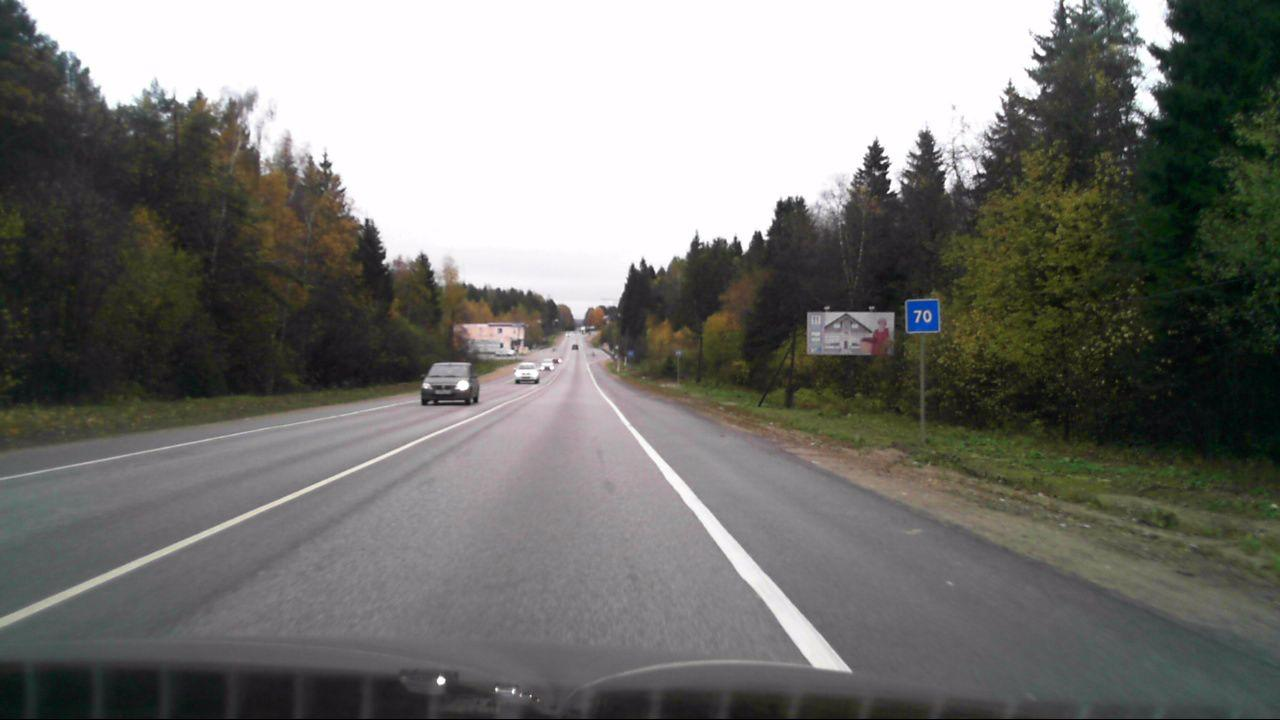6_2: (905, 299, 938, 332)
